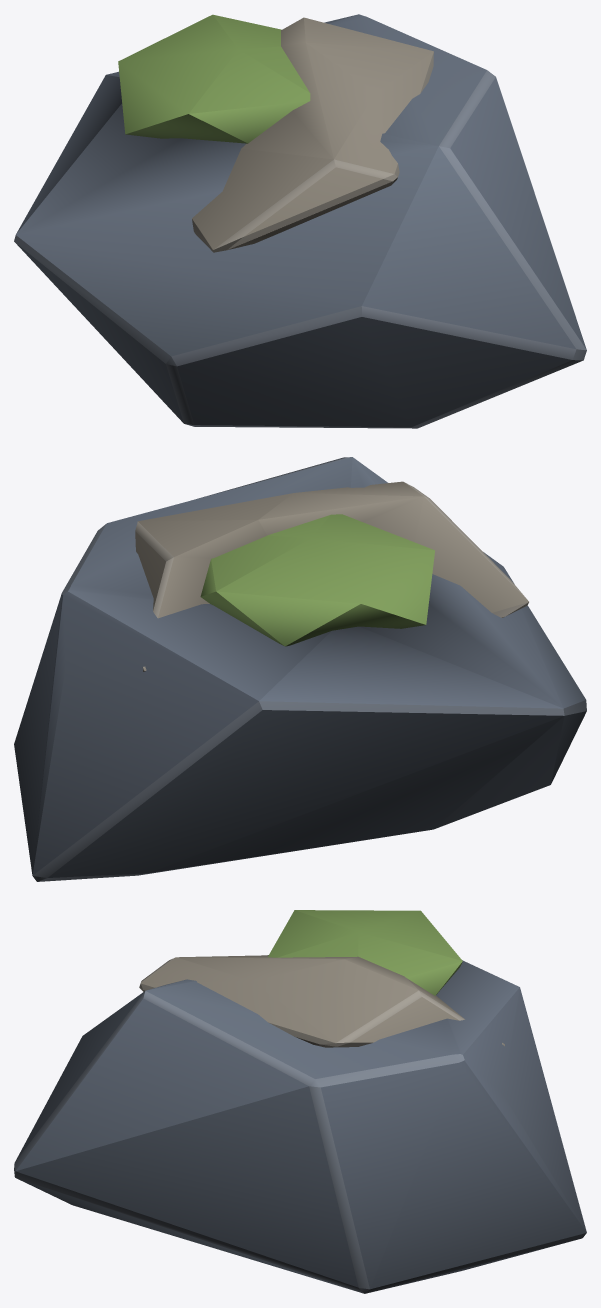
The model's file is PB_Boulder_A.glb.
3 views of the same model, one above another, from view 1: azimuth 30°, elevation 25°; view 2: azimuth 150°, elevation 25°; view 3: azimuth 270°, elevation 25° (orthographic). The views are drawn at different scales.
Parts seen in each view (by area): view 1: PB_Boulder_A_1_Slate, PB_Boulder_A_2_SmoothPlastic; view 2: PB_Boulder_A_1_Slate, PB_Boulder_A_2_SmoothPlastic; view 3: PB_Boulder_A_1_Slate, PB_Boulder_A_2_SmoothPlastic.
Boxes of the visible parts, x1,y1,x2,y2 form: PB_Boulder_A_1_Slate: (14,14,586,428); PB_Boulder_A_2_SmoothPlastic: (118,14,310,143); PB_Boulder_A_1_Slate: (14,457,586,881); PB_Boulder_A_2_SmoothPlastic: (200,514,434,646); PB_Boulder_A_1_Slate: (14,955,586,1293); PB_Boulder_A_2_SmoothPlastic: (268,910,462,995).
Size of the model in its own units: 5.79 by 2.95 by 6.24.
